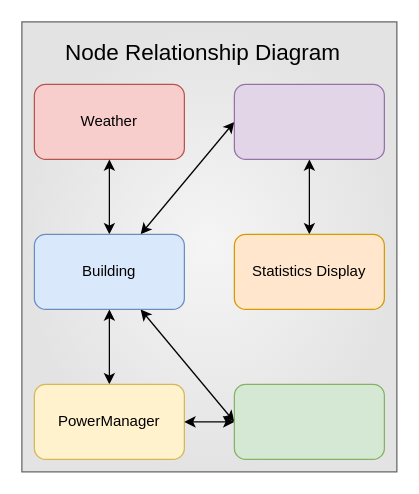
The diagram is 419 pixels wide and 494 high, and some of its shapes have lost their labels. The centre of each missing label's shape, as x and y in pixels:
"Map" belongs at (x=308, y=421).
"SignalBus" belongs at (x=308, y=121).
